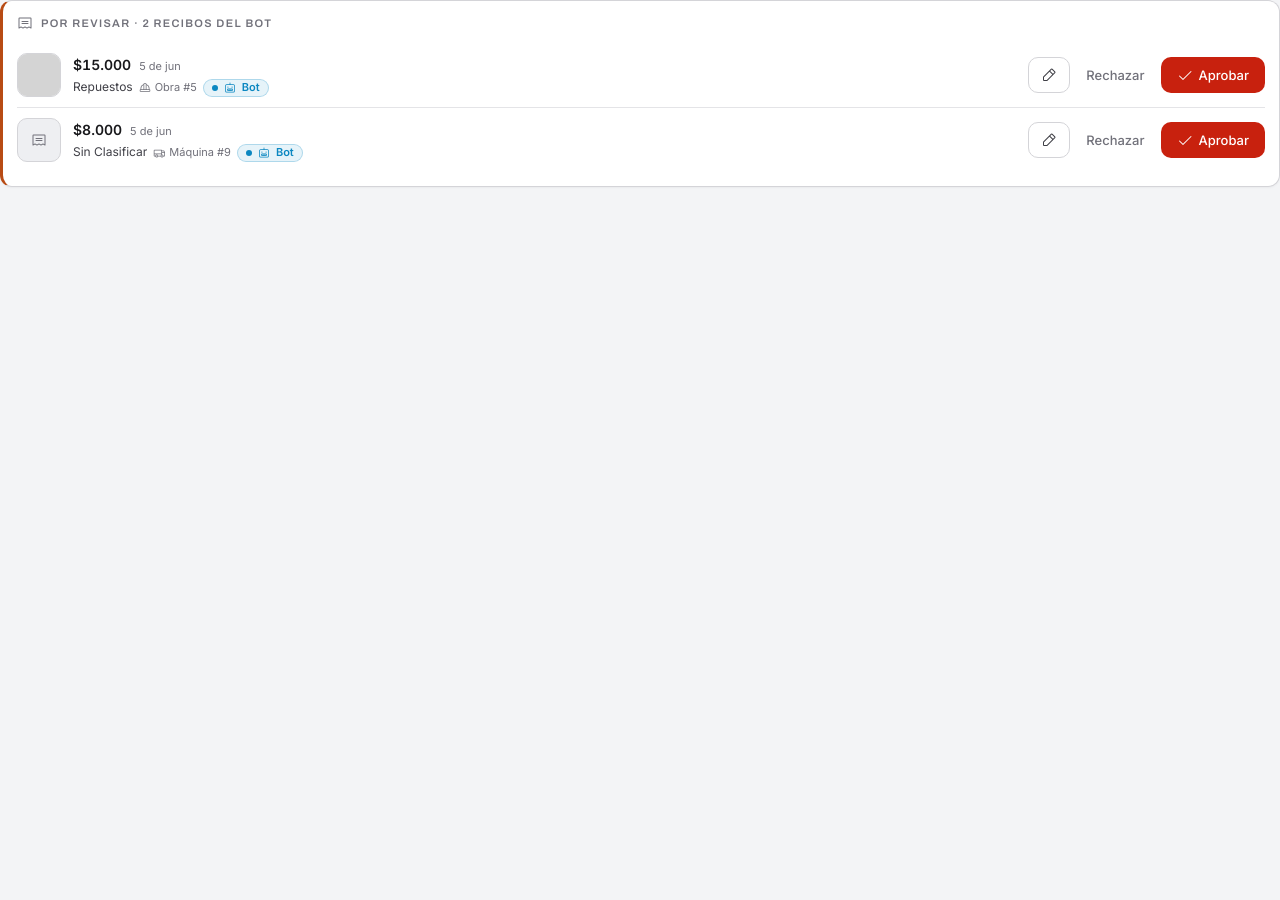
it: BandejaRevision — cola de recibos del bot (F5) › rechazar abre confirmación con motivo y dispara POST /gastos/{id}/rechazar (F2.2)
This screenshot has width=1280, height=900.
Expected: the heading "Por revisar · 2 recibos del bot" is shown, [41,16,272,30]
Click the button "Rechazar" in the row of "Obra #" at point(1115, 75), box [1076,57,1155,93]
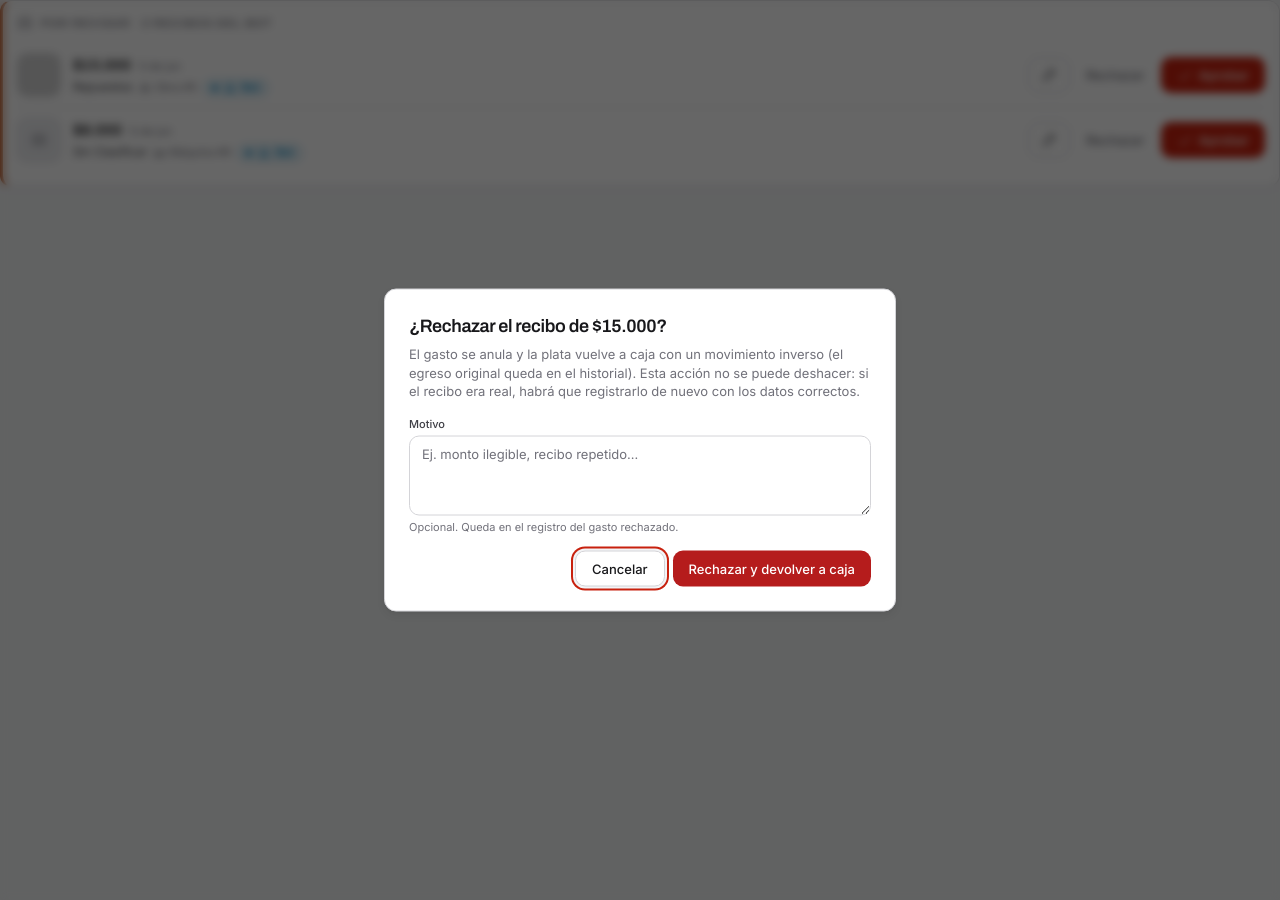
Now the heading "¿Rechazar el recibo de $15.000?" is shown, box [409,316,667,336]
Now the text "movimiento inverso" is shown, box [409,345,868,399]
Type "recibo repetido" into the text box with placeholder "Ej. monto ilegible, recibo repetido…" at point(640, 476), box [409,436,871,516]
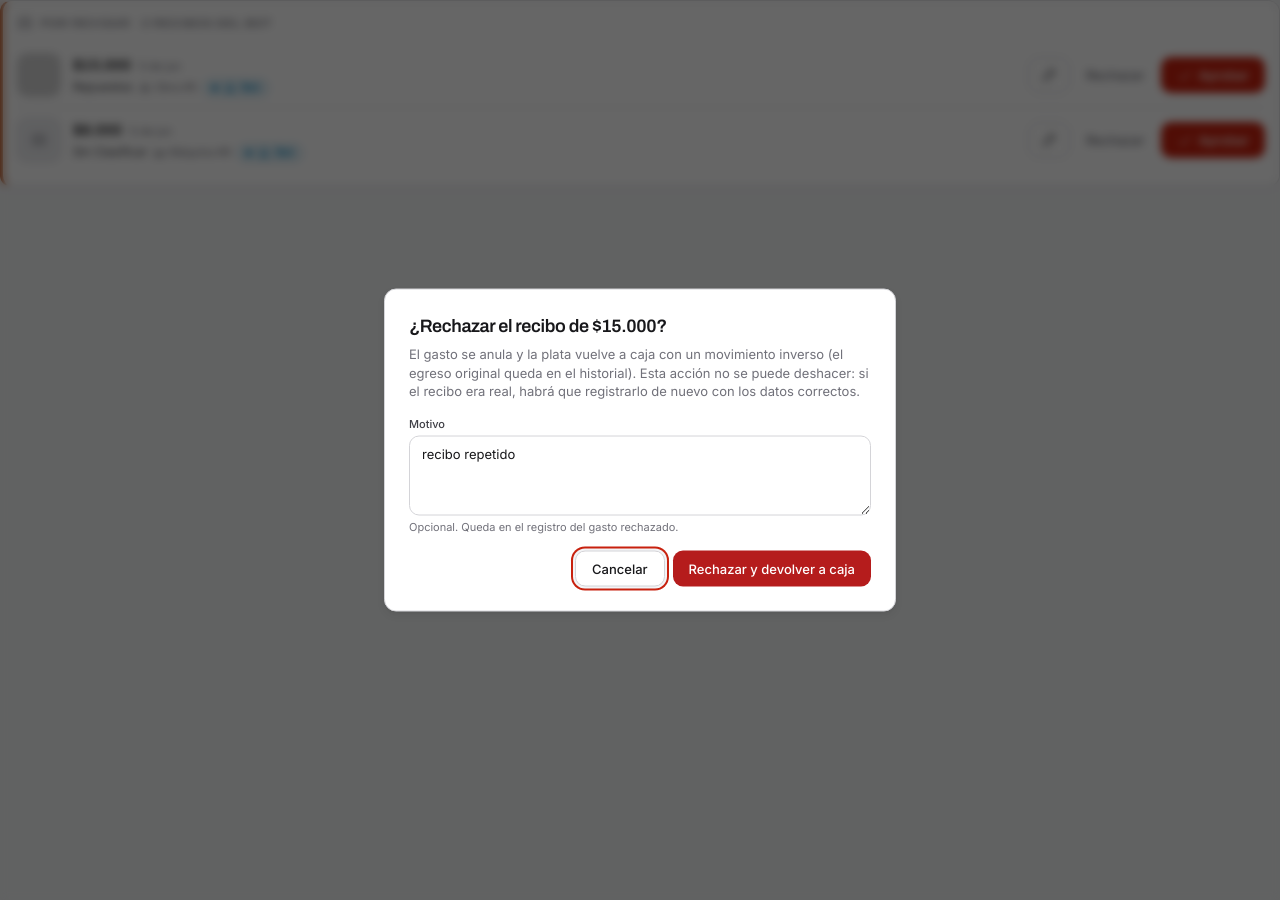
Click the button "Rechazar y devolver a caja" at point(772, 568), box [673,550,871,586]
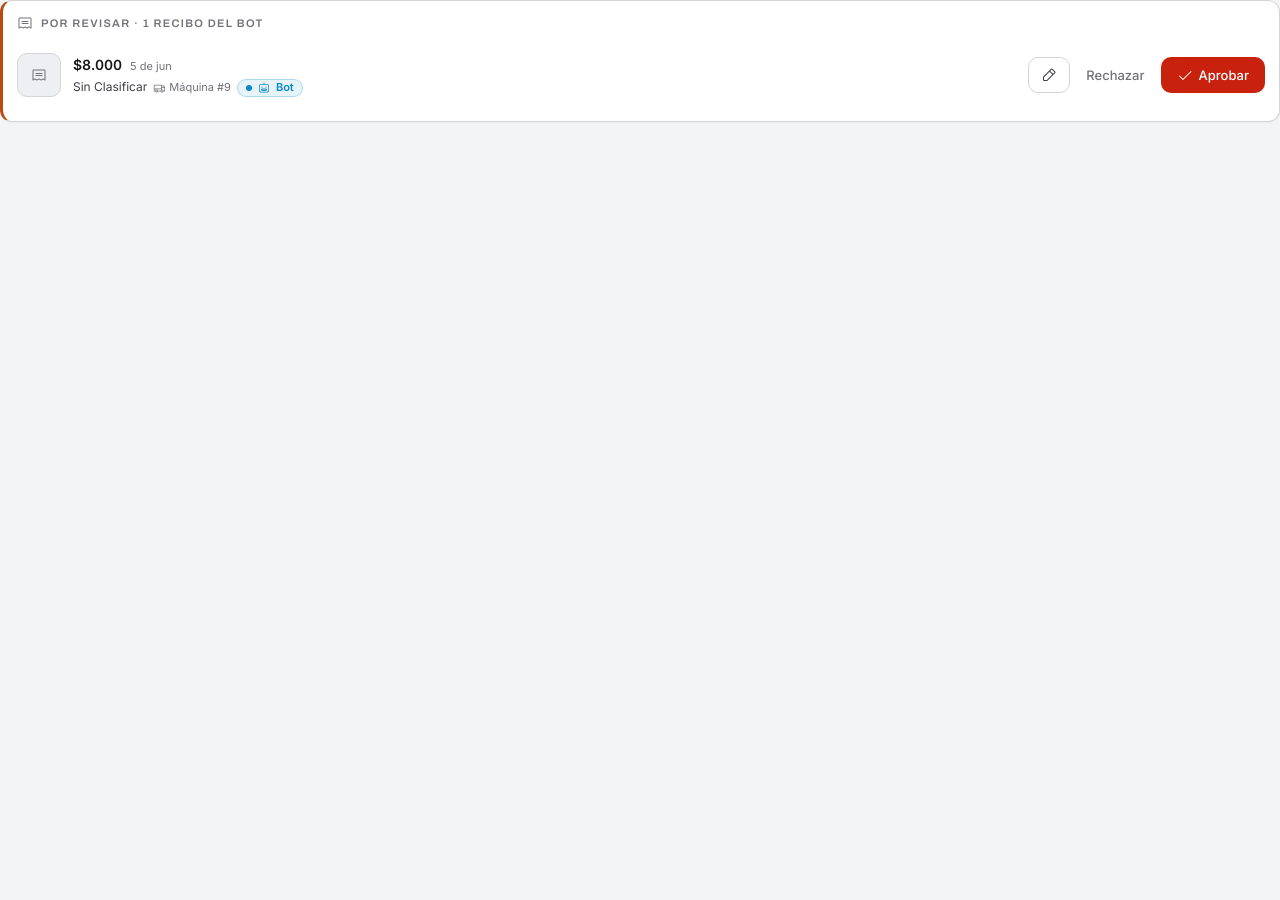
Now the heading "Por revisar · 1 recibo del bot" is shown, box [41,16,264,30]
